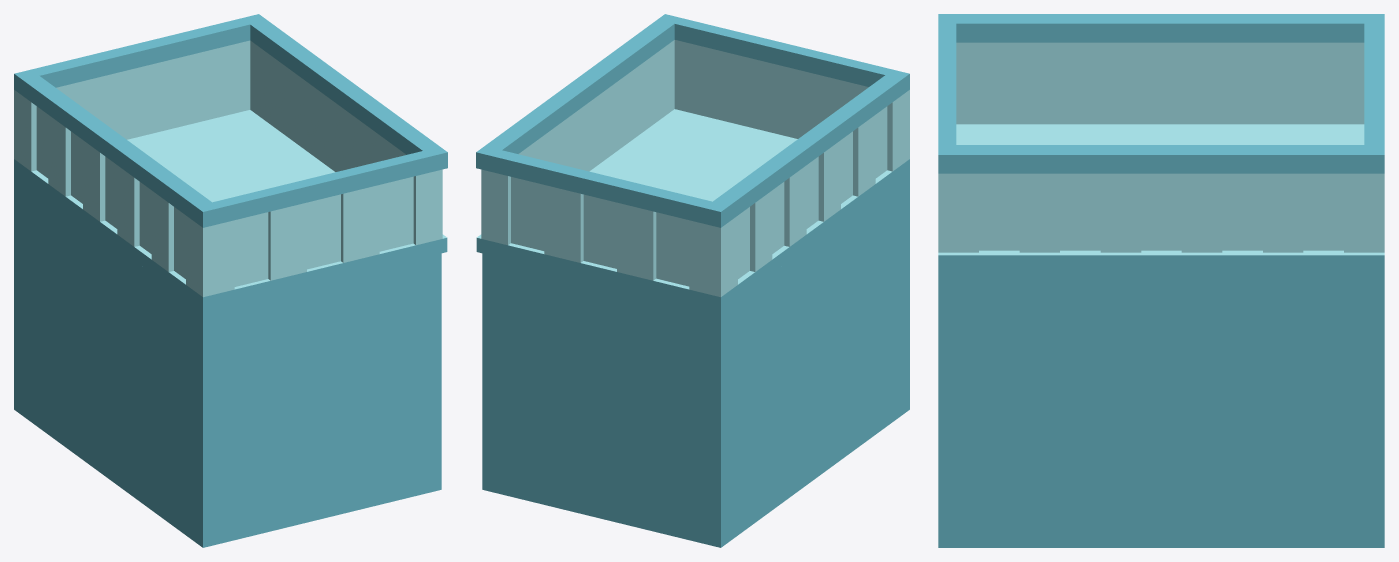
The model's file is extrawallsmall.fbx.
3 renders of one model, left to right at view 1: azimuth 30°, elevation 25°; view 2: azimuth 150°, elevation 25°; view 3: azimuth 270°, elevation 25°, orthographic. The views are drawn at different scales.
Visible parts, largest first — view 1: extrawallsmall, Roof.021; view 2: extrawallsmall, Roof.021; view 3: extrawallsmall, Roof.021.
Boxes of the visible parts, x1=… form: extrawallsmall: x1=14, y1=173, x2=441, y2=547; Roof.021: x1=14, y1=14, x2=447, y2=311; extrawallsmall: x1=482, y1=173, x2=909, y2=547; Roof.021: x1=476, y1=14, x2=909, y2=310; extrawallsmall: x1=938, y1=272, x2=1384, y2=547; Roof.021: x1=938, y1=14, x2=1384, y2=272.
Size of the model in its own units: 6.48 by 8.5 by 8.67.
